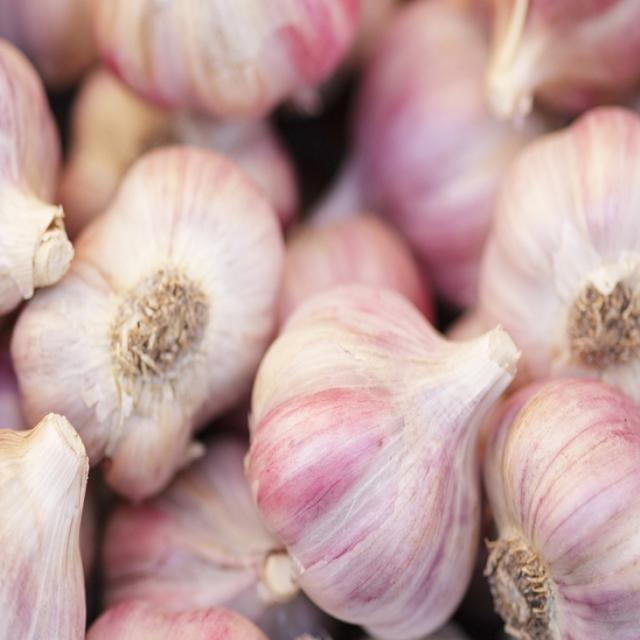garlic: (245, 283, 518, 635), (10, 147, 282, 498), (452, 107, 638, 402), (483, 377, 638, 637), (483, 0, 638, 128), (0, 413, 87, 637), (137, 147, 244, 183)
